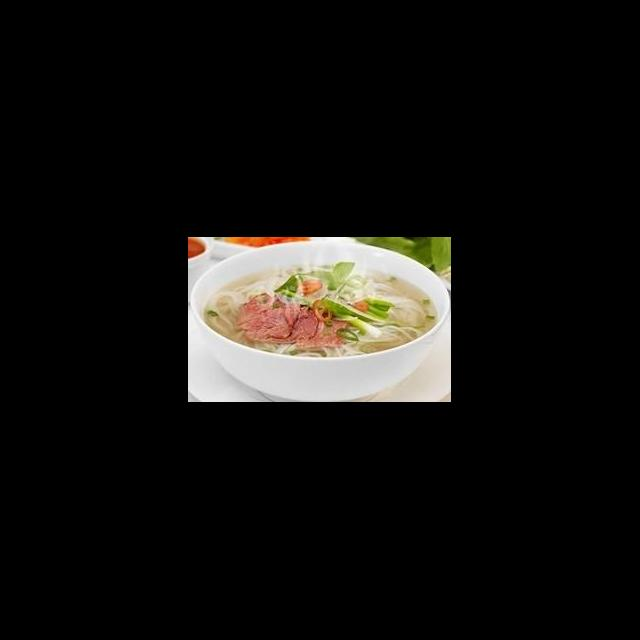banh pho: (364, 274, 429, 350), (202, 288, 248, 344)
pho bo: (198, 252, 446, 402)
thit bo: (233, 290, 310, 342), (252, 302, 324, 346), (284, 308, 354, 352)
